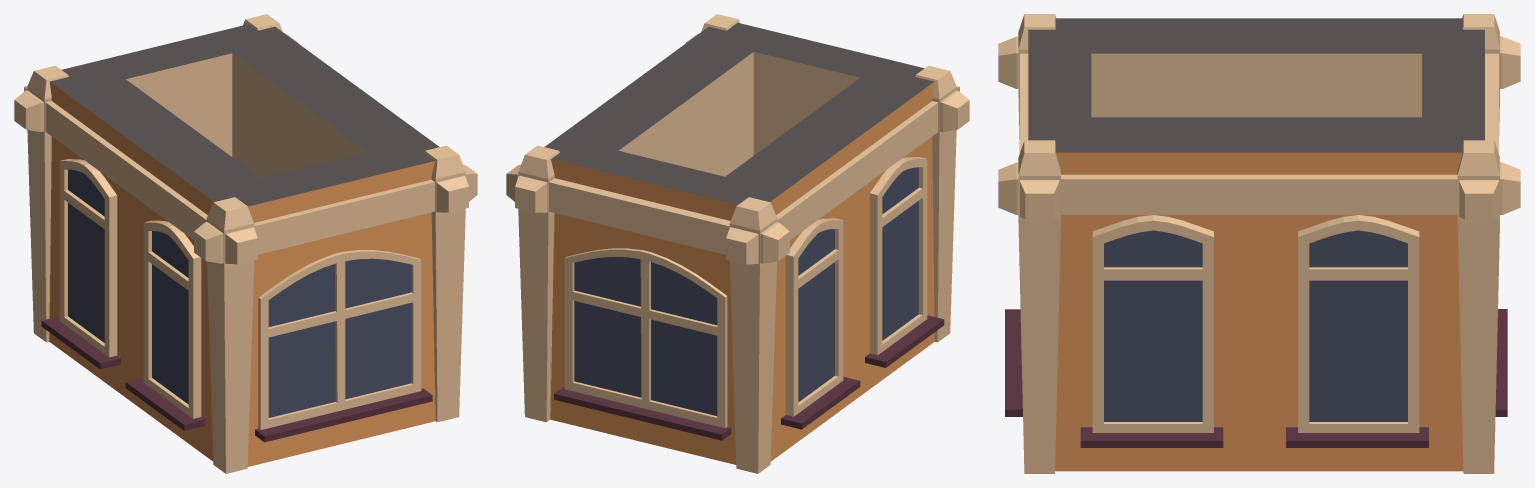
Rendered from Testhouse_FloorSmall_VAR1.fbx.
The picture shows the model from 3 angles, left to right: view 1: azimuth 30°, elevation 25°; view 2: azimuth 150°, elevation 25°; view 3: azimuth 270°, elevation 25°; orthographic projection. The views are drawn at different scales.
Visible parts, largest first — view 1: Testhouse_FloorSmall.001; view 2: Testhouse_FloorSmall.001; view 3: Testhouse_FloorSmall.001.
Boxes of the visible parts, left/top/right/bottom form: Testhouse_FloorSmall.001: left=14, top=14, right=477, bottom=473; Testhouse_FloorSmall.001: left=506, top=14, right=969, bottom=473; Testhouse_FloorSmall.001: left=998, top=14, right=1520, bottom=473.
Bounding box in the file's own units: 109 × 149 × 101.
